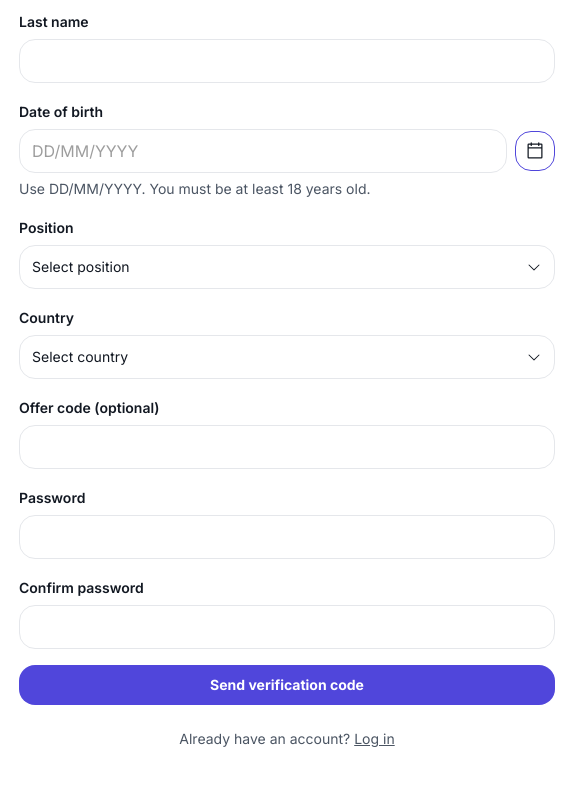
it: registration form › labels password-manager fields and focuses the first invalid field
This screenshot has width=575, height=794.
(page scrolled)
Click the button "Send verification code". click: (287, 685)
box: [19, 665, 555, 705]
(page scrolled)
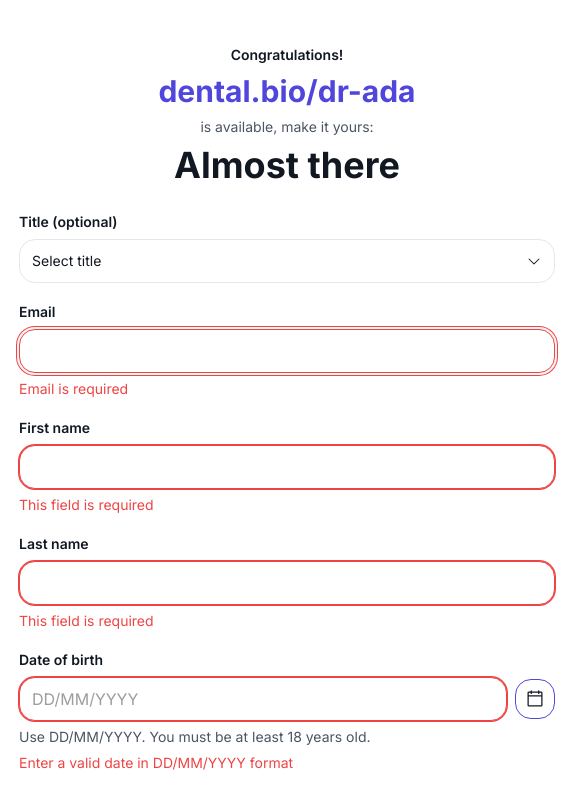
Expected: the text "Email is required" is shown, [19, 380, 128, 397]
